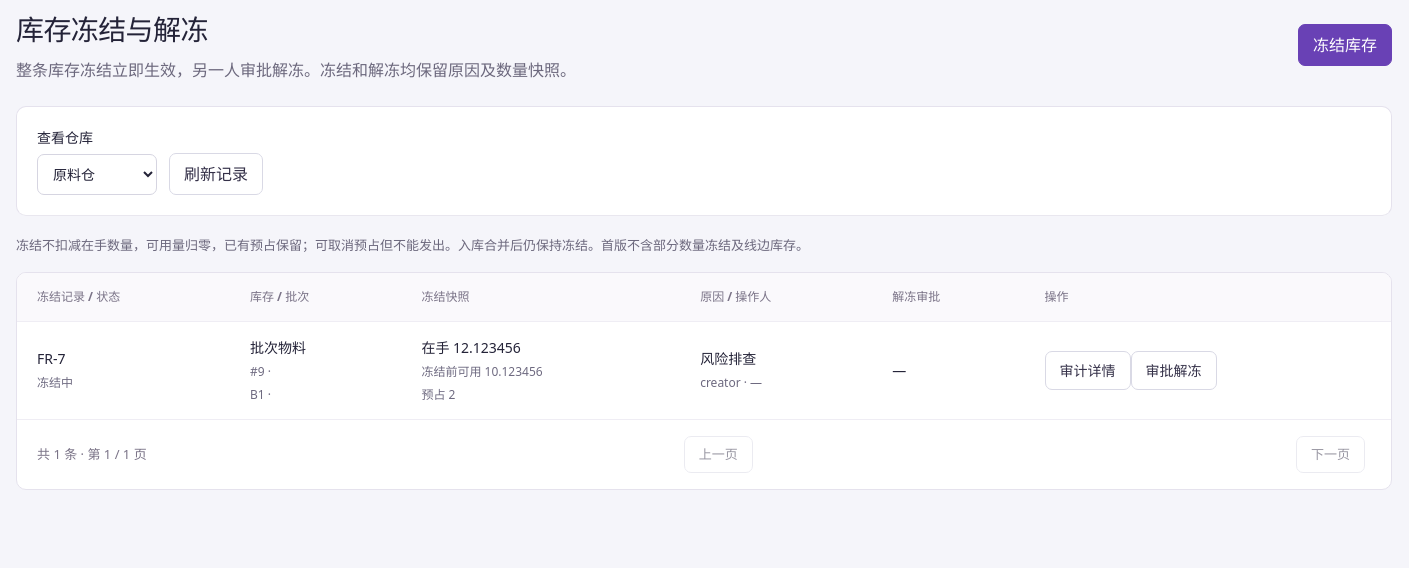
Scenario: does not offer approval when a refreshed record has already been released
Step 1. Click the button "审批解冻" → (1174, 370), box [1130,350,1216,390]
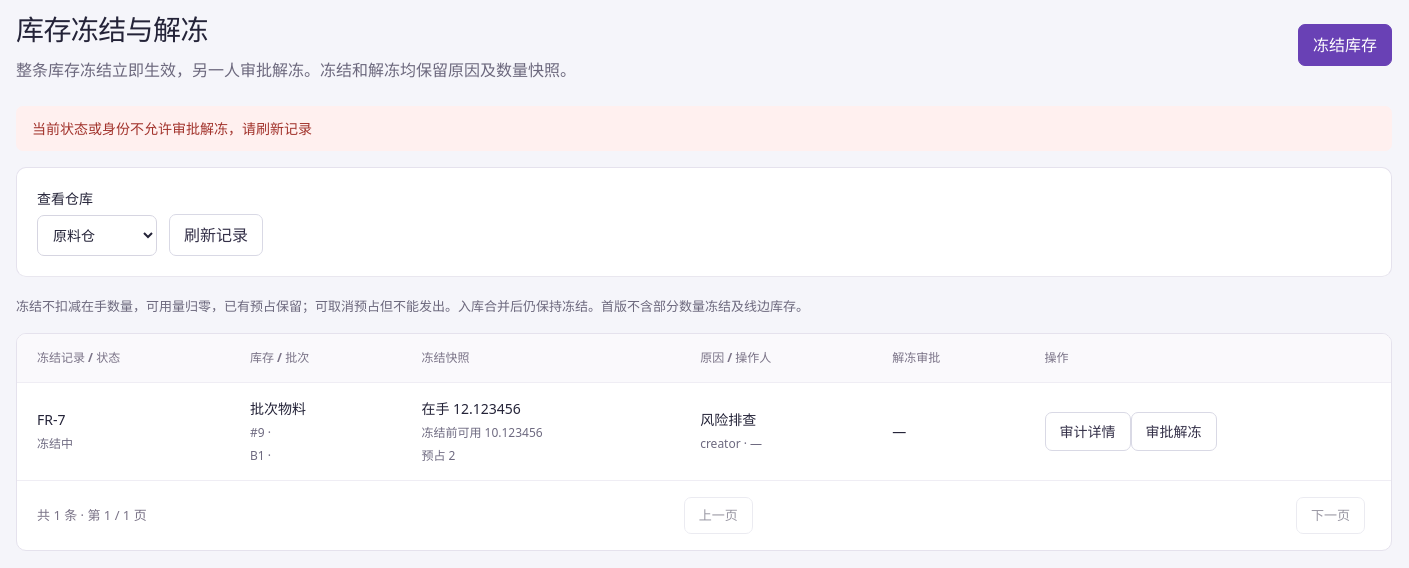
Now the text "当前状态或身份不允许" is shown, box [32,119,312,138]
